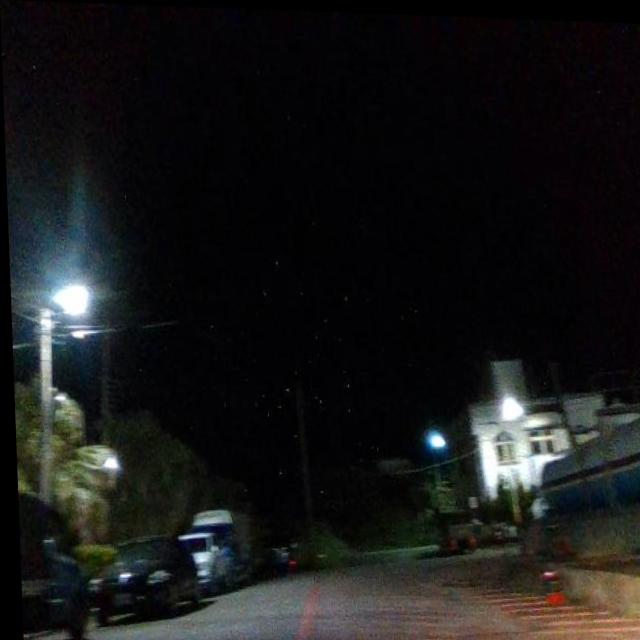pollute: (538, 564, 566, 606)
